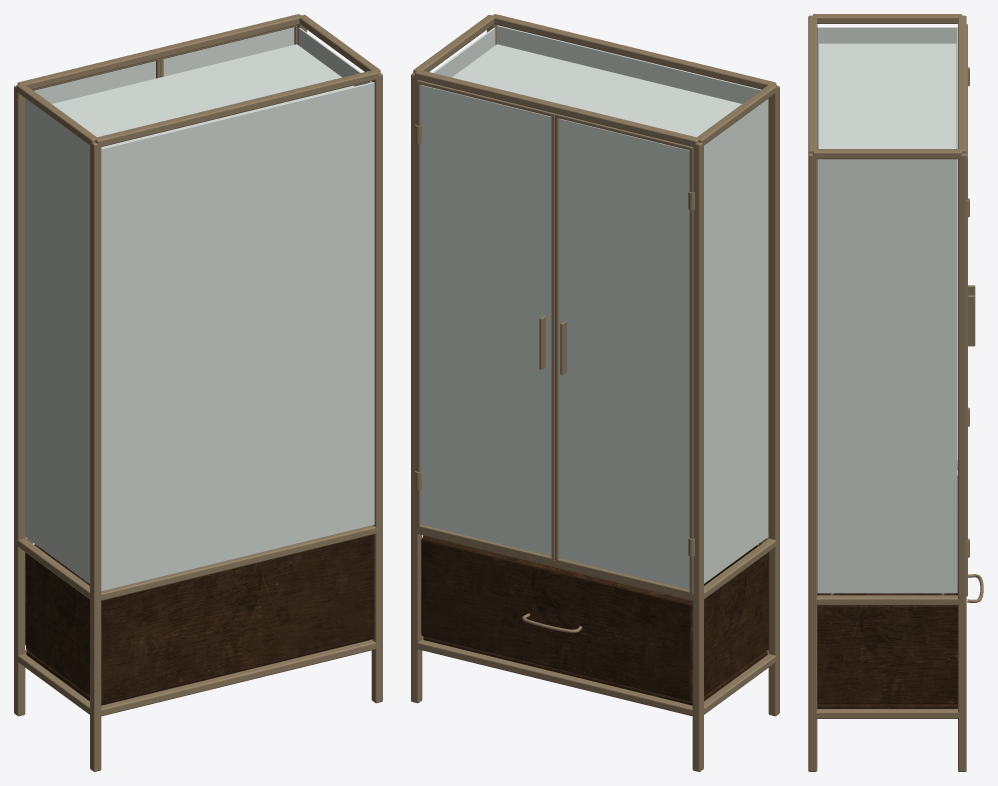
Rendered from atelier-glass-vitrine.glb.
The picture shows the model from 3 angles, left to right: view 1: azimuth 30°, elevation 25°; view 2: azimuth 150°, elevation 25°; view 3: azimuth 270°, elevation 25°; orthographic projection.
Parts seen in each view (by area): view 1: glass_surfaces, bronze_surfaces, walnut_surfaces; view 2: glass_surfaces, bronze_surfaces, walnut_surfaces; view 3: glass_surfaces, bronze_surfaces, walnut_surfaces.
Boxes of the visible parts, box(x1,y1,x2,y2) form: glass_surfaces: box(25, 27, 374, 591); bronze_surfaces: box(14, 14, 382, 771); walnut_surfaces: box(25, 534, 374, 705); glass_surfaces: box(420, 25, 768, 589); bronze_surfaces: box(411, 14, 779, 771); walnut_surfaces: box(421, 535, 768, 705); glass_surfaces: box(817, 27, 957, 593); bronze_surfaces: box(808, 14, 983, 771); walnut_surfaces: box(817, 475, 957, 708).
Size of the model in its own units: 0.8919 by 1.86 by 0.4761.
Materials: 6 (1 with a texture image).
